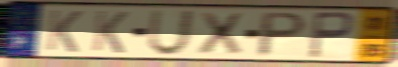K: (90, 9, 131, 55), (44, 8, 84, 54)
P: (255, 11, 310, 59), (307, 11, 357, 61)
U: (145, 9, 196, 57)
X: (196, 11, 245, 56)
